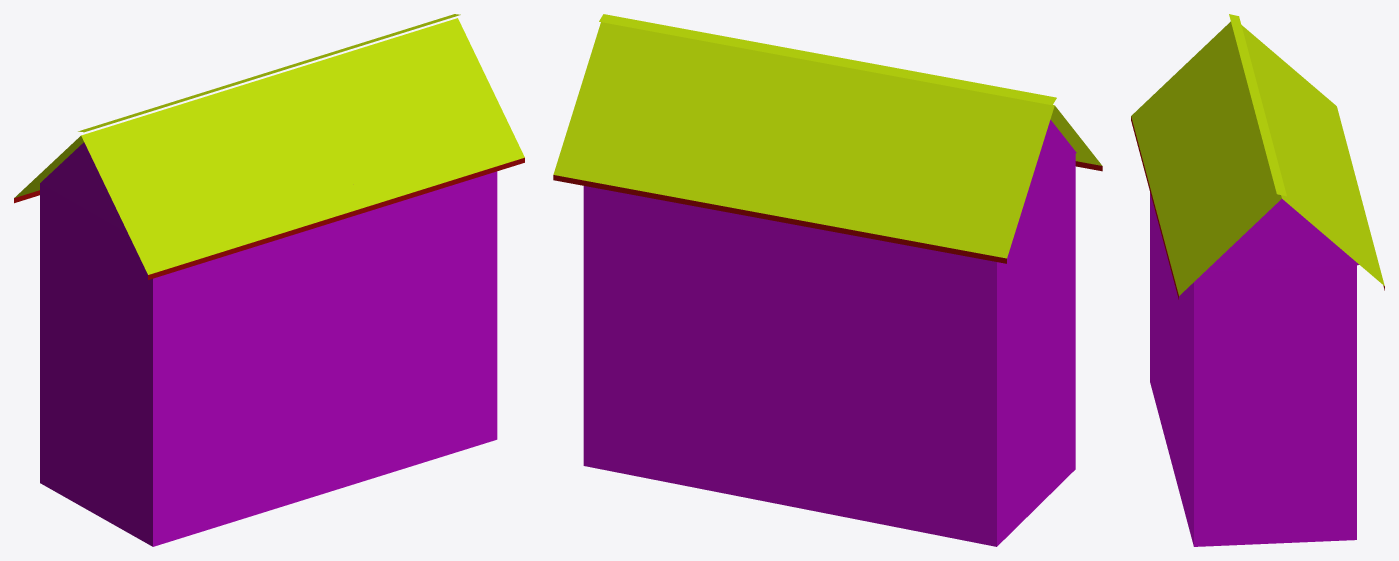
File: svc_35.glb
3 renders of one model, left to right at view 1: azimuth 30°, elevation 25°; view 2: azimuth 150°, elevation 25°; view 3: azimuth 270°, elevation 25°, orthographic. The views are drawn at different scales.
Visible parts, largest first — view 1: svc_35; view 2: svc_35; view 3: svc_35.
Boxes of the visible parts, x1=… form: svc_35: x1=14, y1=14, x2=524, y2=546; svc_35: x1=553, y1=14, x2=1102, y2=546; svc_35: x1=1131, y1=14, x2=1384, y2=546.
Bounding box in the file's own units: 10.53 × 9.22 × 5.94.
